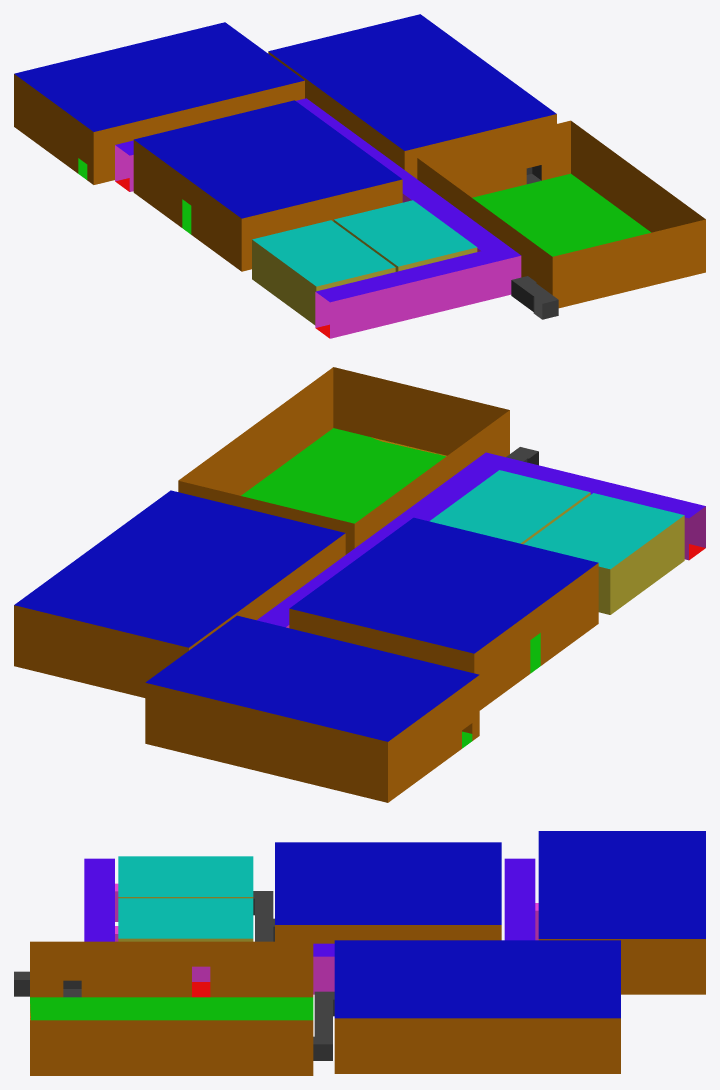
File: LabEste.obj
3 views of the same model, one above another, from view 1: azimuth 30°, elevation 25°; view 2: azimuth 150°, elevation 25°; view 3: azimuth 270°, elevation 25° (orthographic). The views are drawn at different scales.
Parts seen in each view (by area): view 1: Plane.001; view 2: Plane.001; view 3: Plane.001.
Boxes of the visible parts, x1=… form: Plane.001: x1=14, y1=14, x2=705, y2=338; Plane.001: x1=14, y1=367, x2=705, y2=802; Plane.001: x1=14, y1=831, x2=705, y2=1075.
Bounding box in the file's own units: 29.15 × 4 × 45.04.
